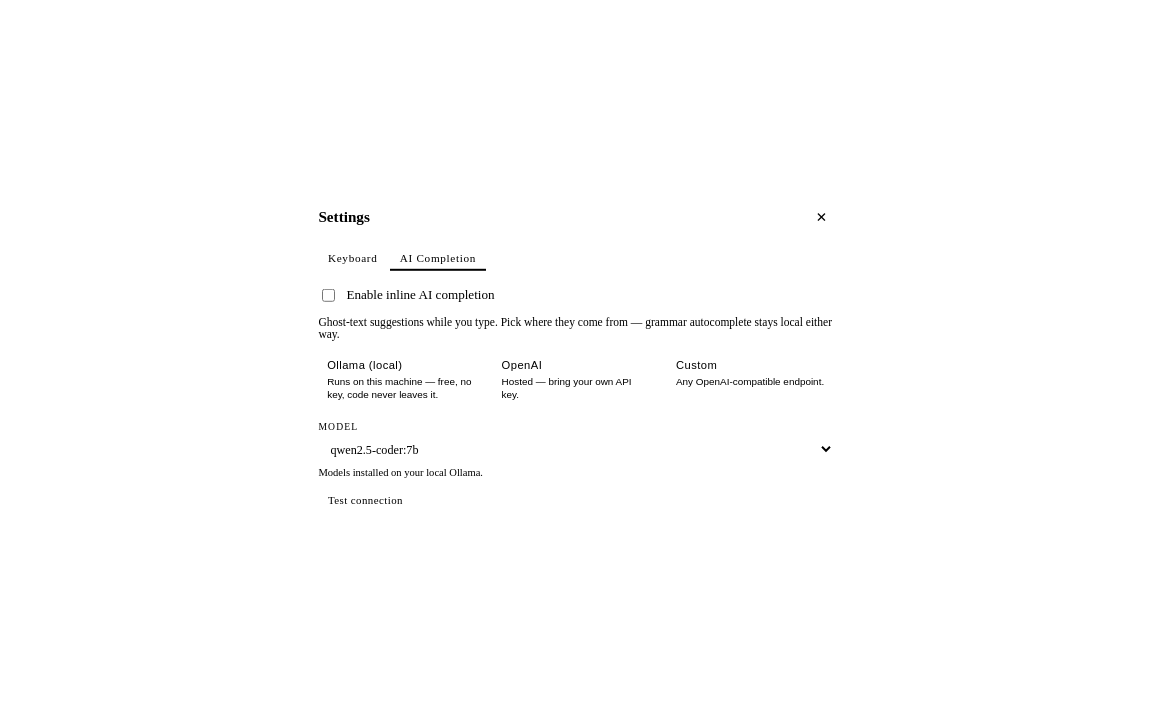
Scenario: Settings › Test connection reports success with the model count
Click the button with test id "llm-test" at (365, 500), box [318,489,412,511]
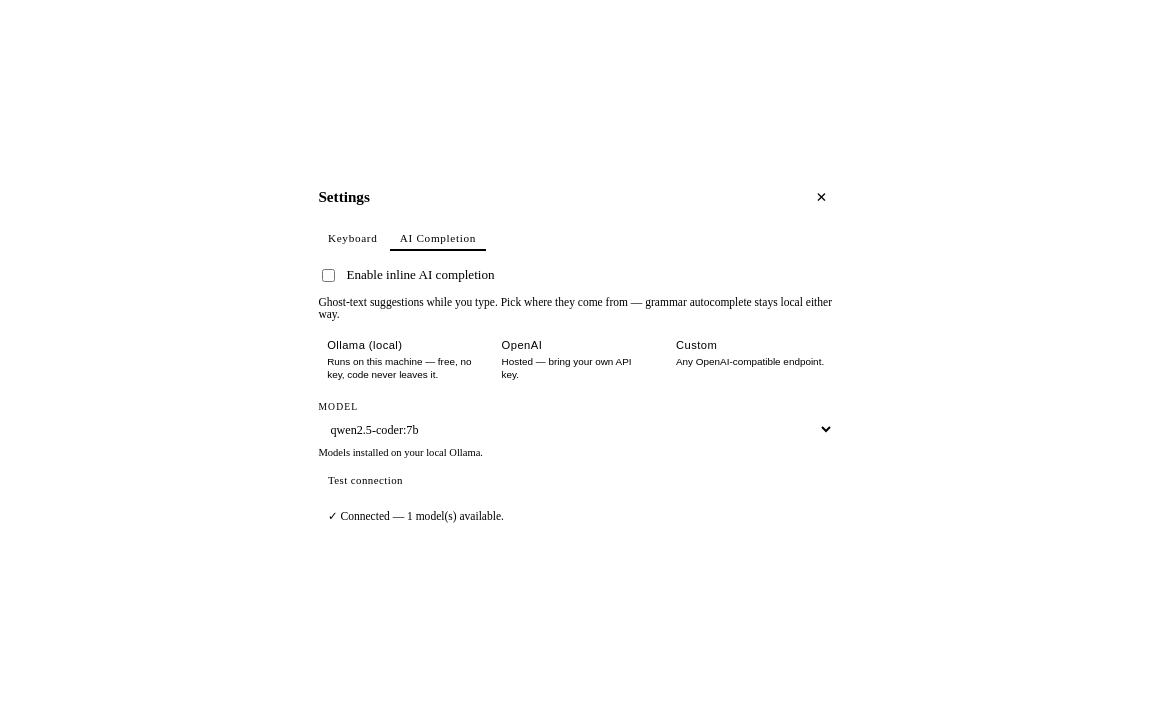
Now the element with test id "llm-test-result" shows "Connected — 1 model(s) available.", box [328,510,504,522]
